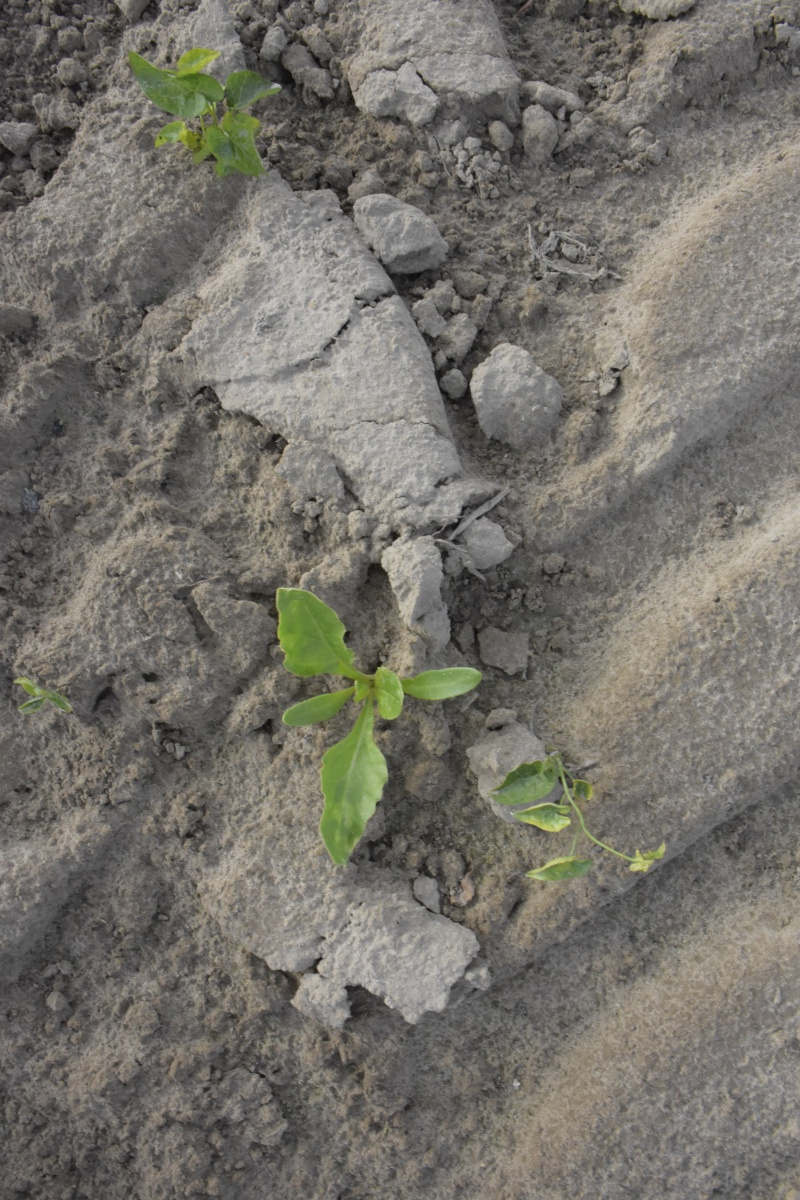field bindweed: (490, 746, 671, 886), (113, 37, 287, 181)
sugar beet: (269, 582, 478, 861)
